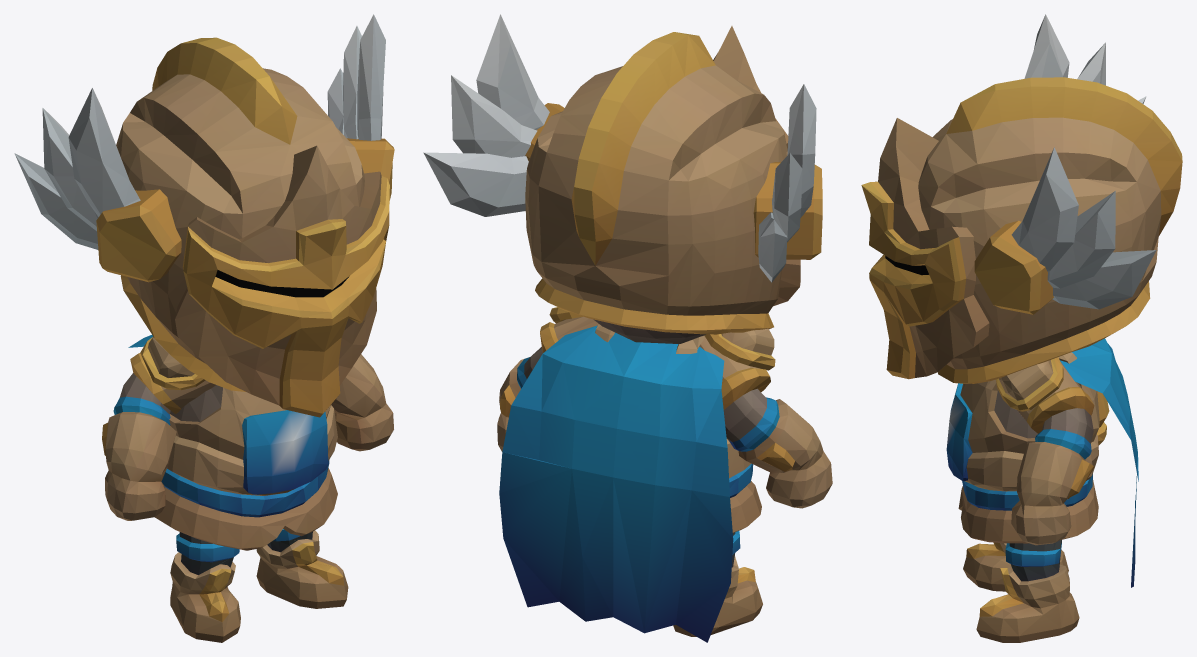
The model's file is paladin.glb.
3 views of the same model, side by side, from view 1: azimuth 30°, elevation 25°; view 2: azimuth 150°, elevation 25°; view 3: azimuth 270°, elevation 25° (orthographic). The views are drawn at different scales.
Visible parts, largest first — view 1: paladin; view 2: paladin; view 3: paladin.
Boxes of the visible parts, x1,y1,x2,y2 form: paladin: (14,14,394,642); paladin: (423,14,832,642); paladin: (861,14,1182,642).
Size of the model in its own units: 0.6332 by 0.9998 by 0.5574.
